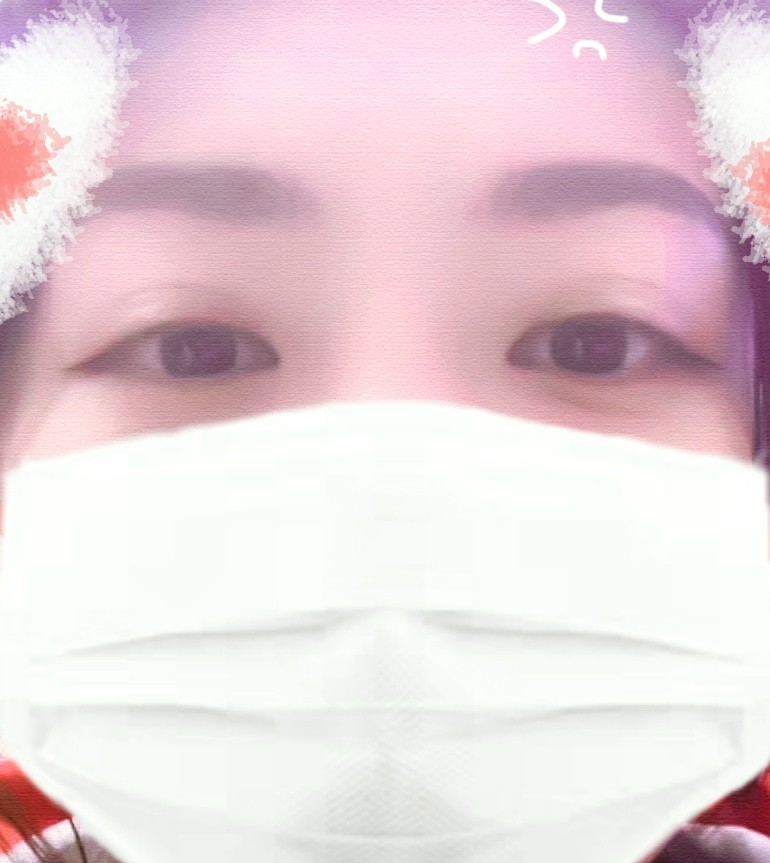with_mask: (6, 117, 770, 863)
